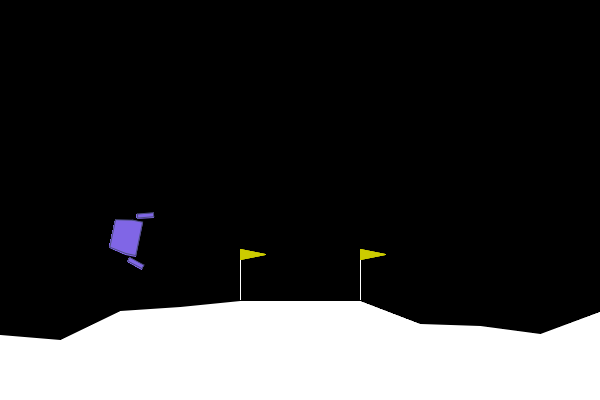lander: (104, 204, 155, 271)
